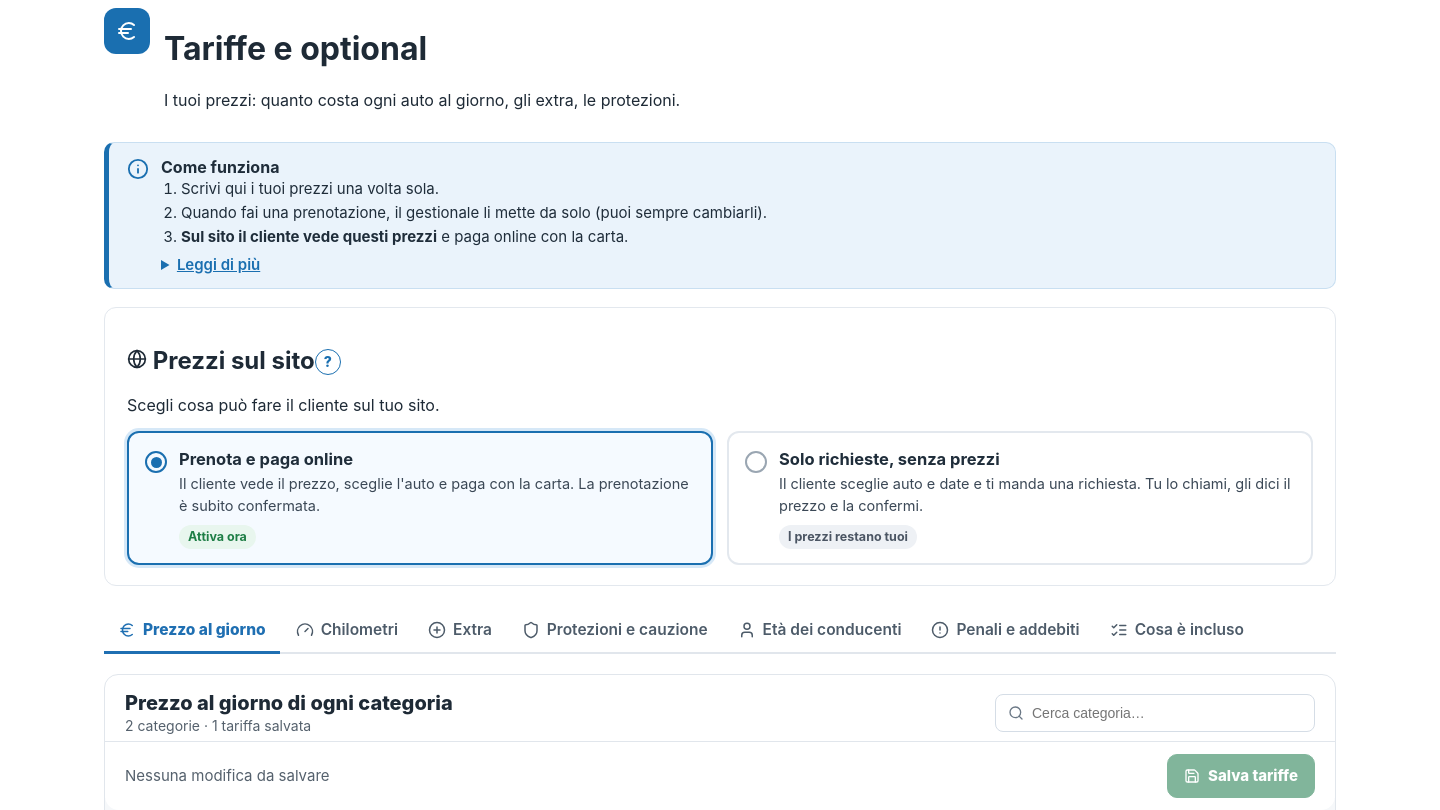
Scenario: il «?» si apre col clic e si chiude con Esc
Click the button named "Chi vede i miei prezzi": [328, 362] box [315,349,341,375]
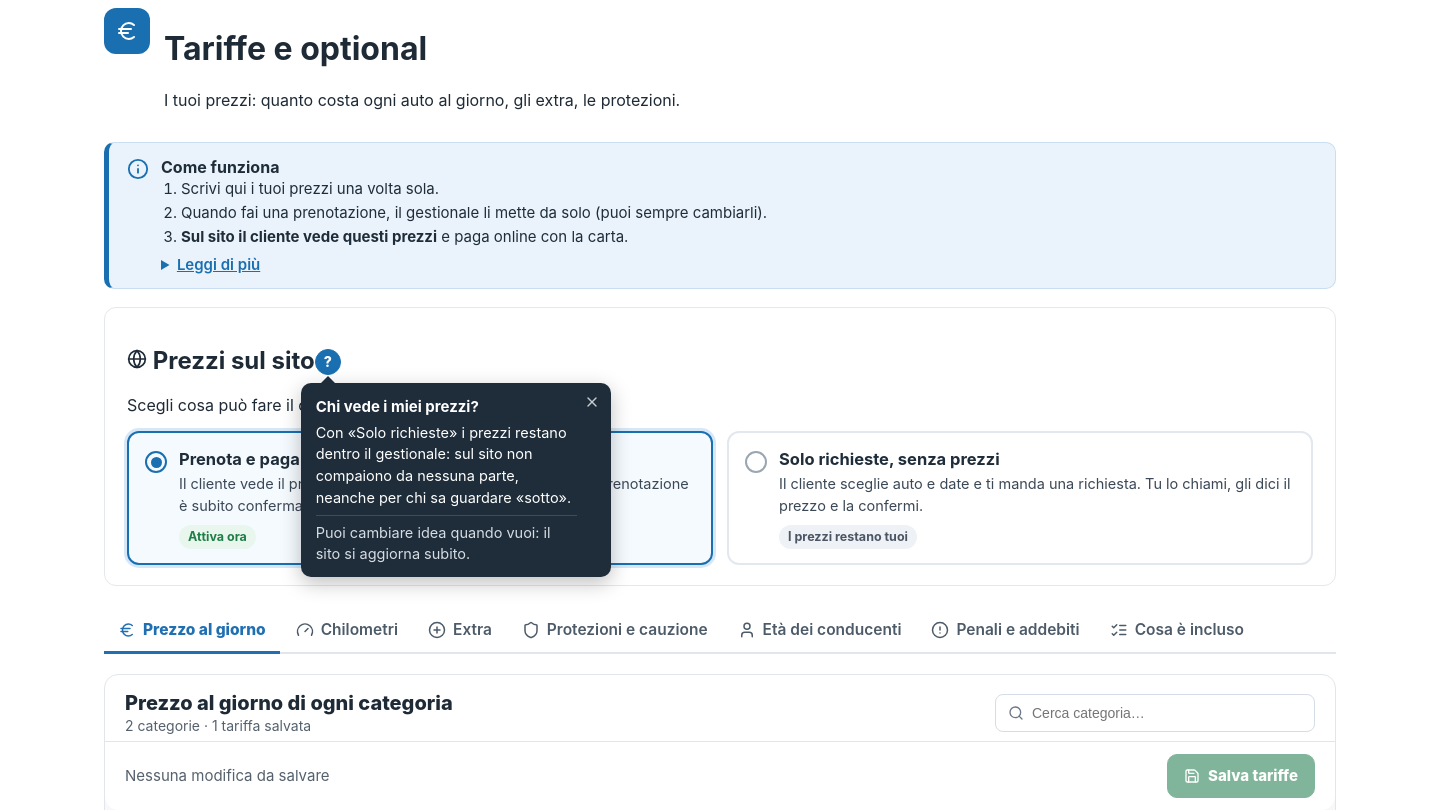
Expected: the dialog "Chi vede i miei prezzi?" is shown, [301,383,611,577]
Press Escape
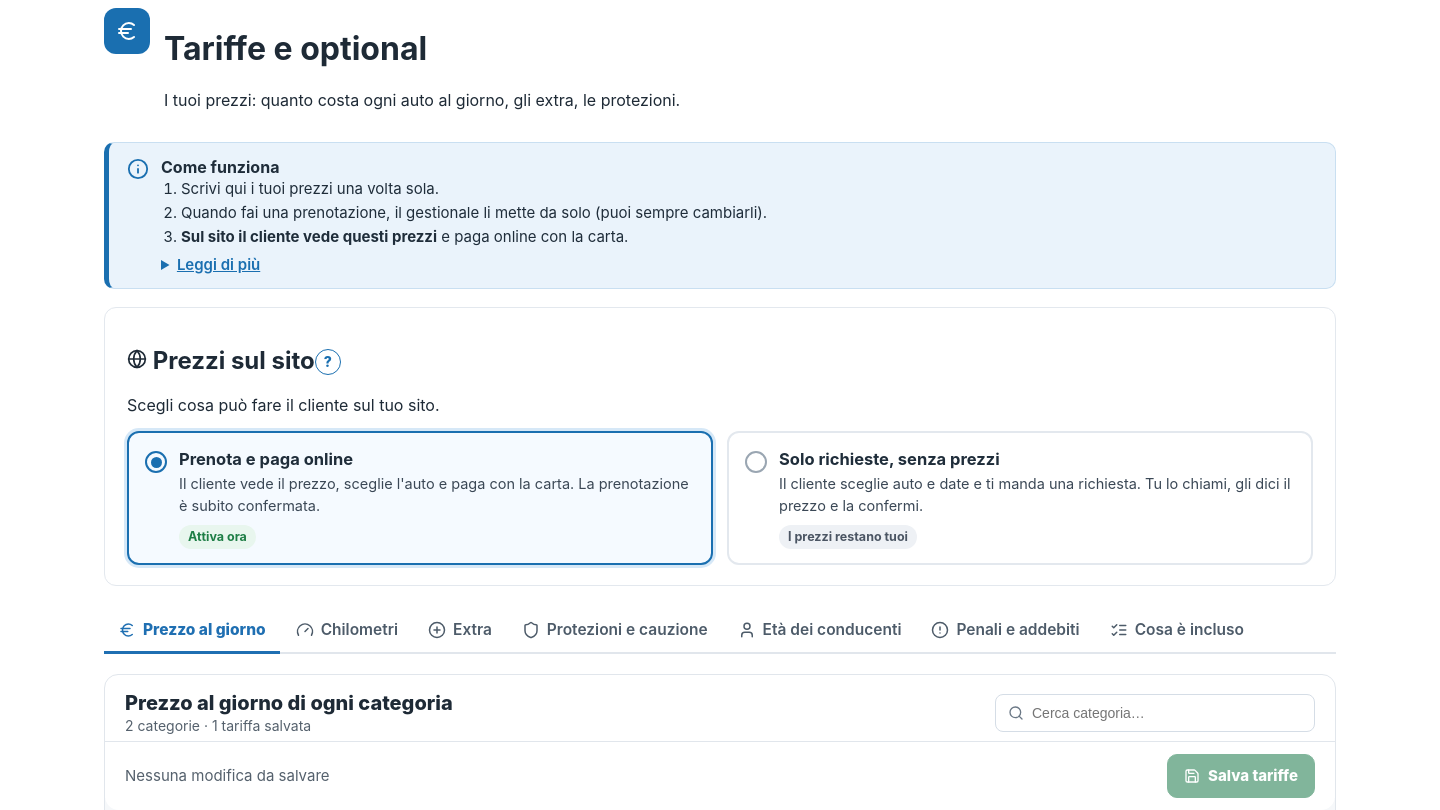
Expected: the text "Chi vede i miei prezzi?" is gone
